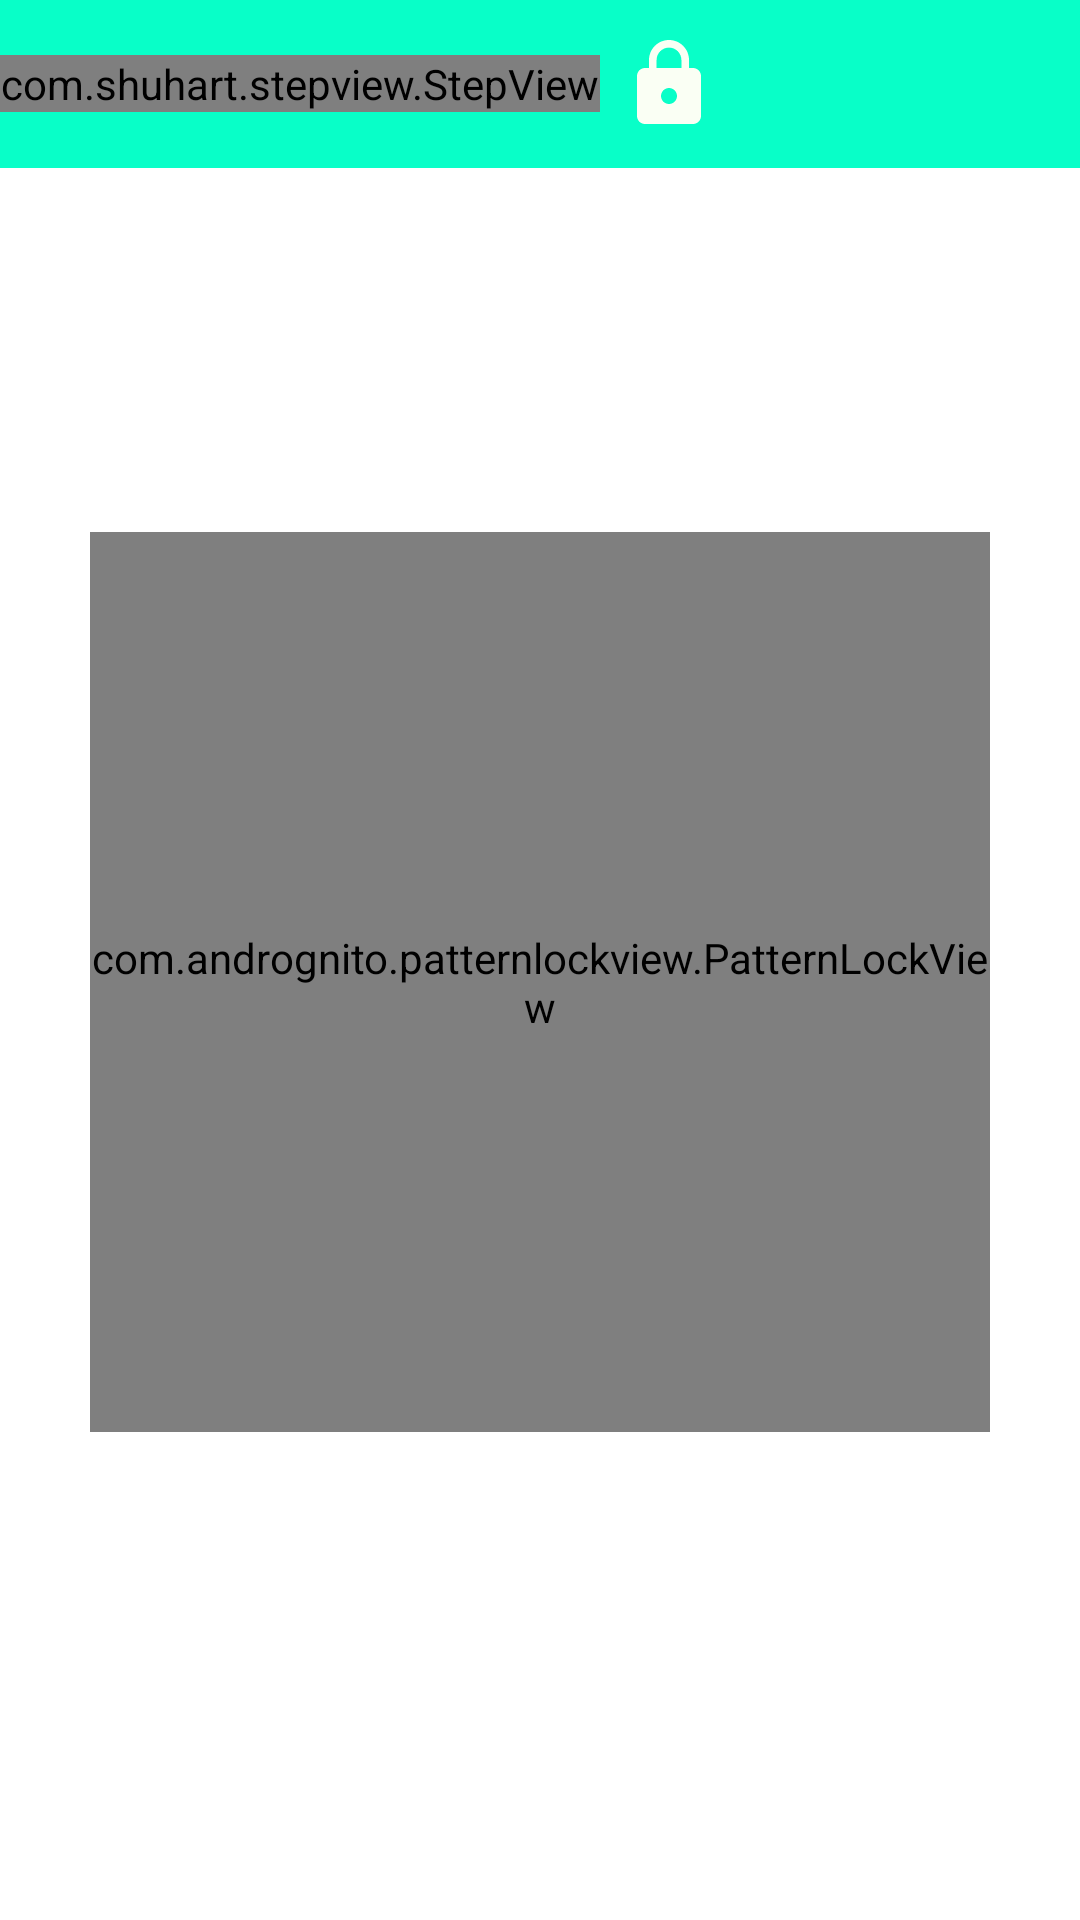

Named icons in this screenshot (1080px x 1920px) and their bounding boxes, bbox(x1, y1, x2, y2):
lock: bbox(637, 40, 701, 124)
